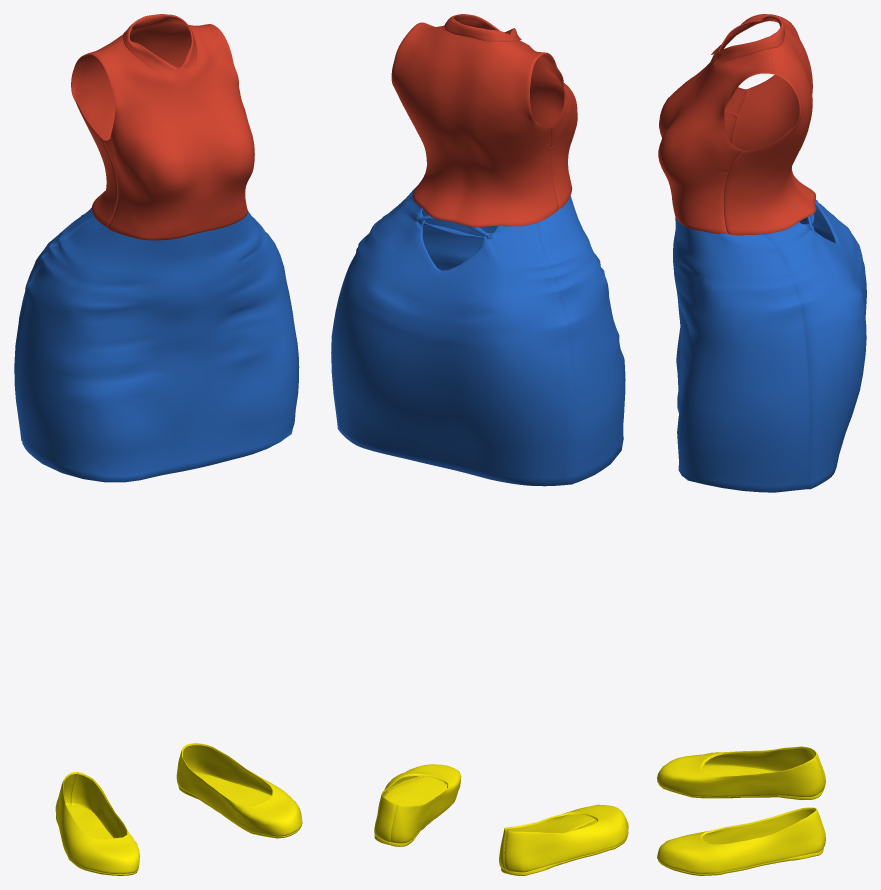
File: Clothes_V2.fbx
3 views of the same model, side by side, from view 1: azimuth 30°, elevation 25°; view 2: azimuth 150°, elevation 25°; view 3: azimuth 270°, elevation 25° (orthographic). The views are drawn at different scales.
Parts seen in each view (by area): view 1: Skirt, Shirt, Shoes; view 2: Skirt, Shirt, Shoes; view 3: Skirt, Shirt, Shoes.
Part boxes in pixels (x1=…): Skirt: x1=14, y1=207, x2=299, y2=482; Shirt: x1=71, y1=14, x2=254, y2=240; Shoes: x1=55, y1=743, x2=302, y2=875; Skirt: x1=331, y1=186, x2=625, y2=486; Shirt: x1=391, y1=14, x2=577, y2=227; Shoes: x1=374, y1=764, x2=628, y2=875; Skirt: x1=673, y1=199, x2=866, y2=492; Shirt: x1=658, y1=14, x2=816, y2=235; Shoes: x1=657, y1=746, x2=825, y2=875.
Size of the model in its own units: 40.54 by 124 by 29.28.
